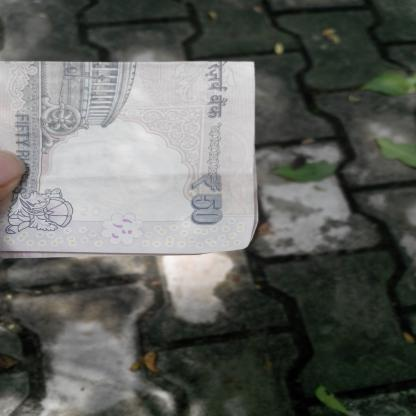Old50Back: (0, 60, 259, 260)
